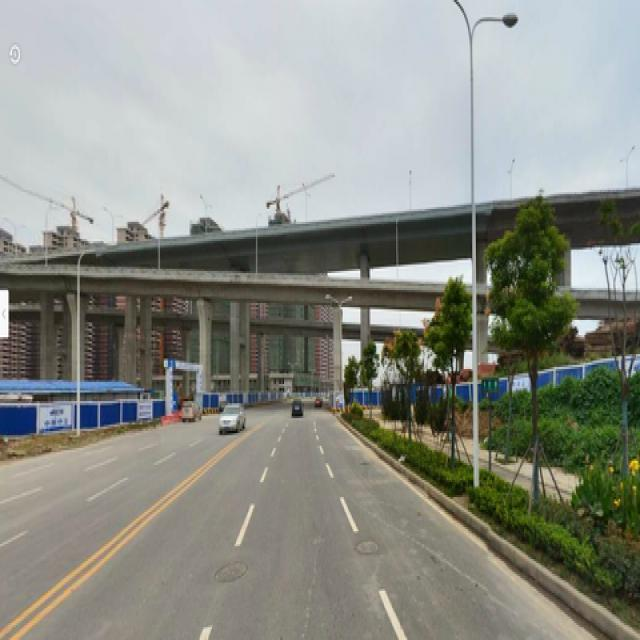koel: (487, 205, 569, 499)
